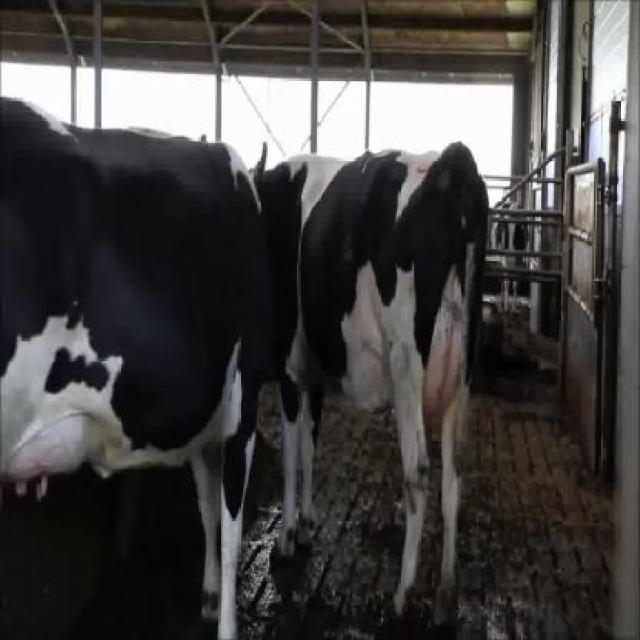Cow: (2, 92, 270, 638), (248, 138, 489, 634)
